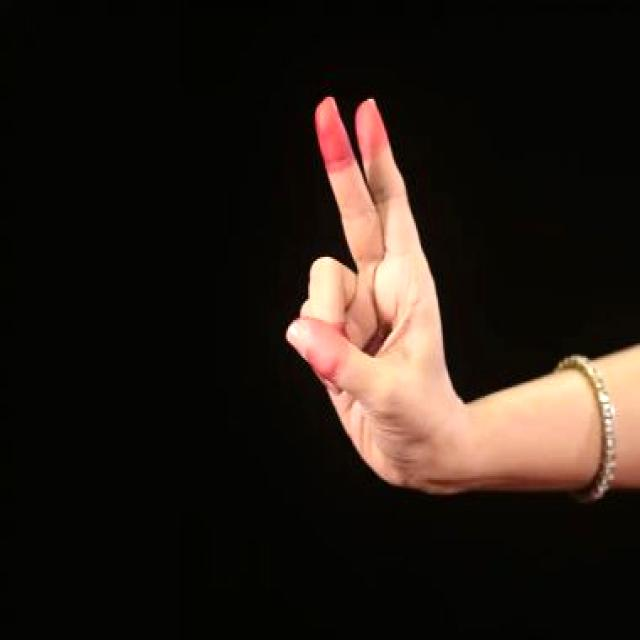Kartarimukha: (275, 67, 488, 524)
